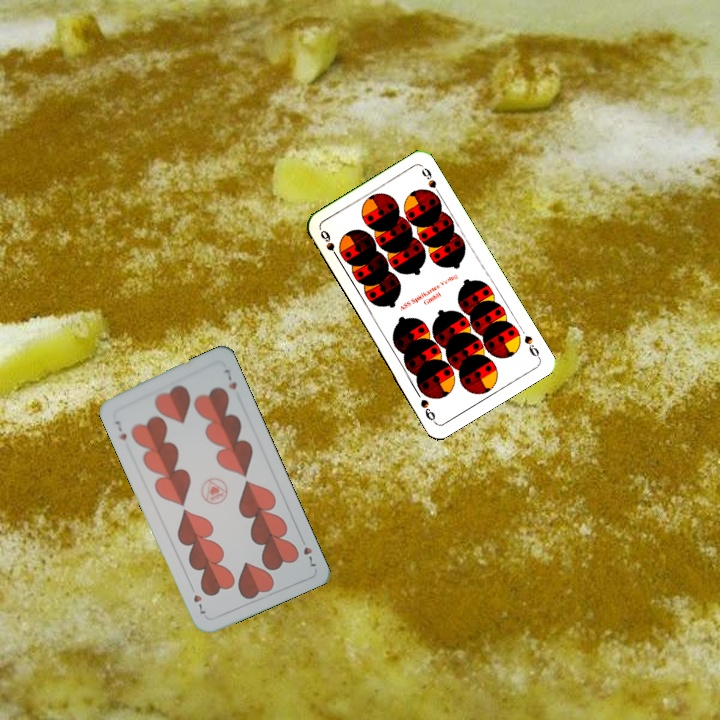H7: (296, 532, 319, 569), (111, 416, 129, 443)
S9: (316, 226, 342, 263), (520, 331, 543, 361)
